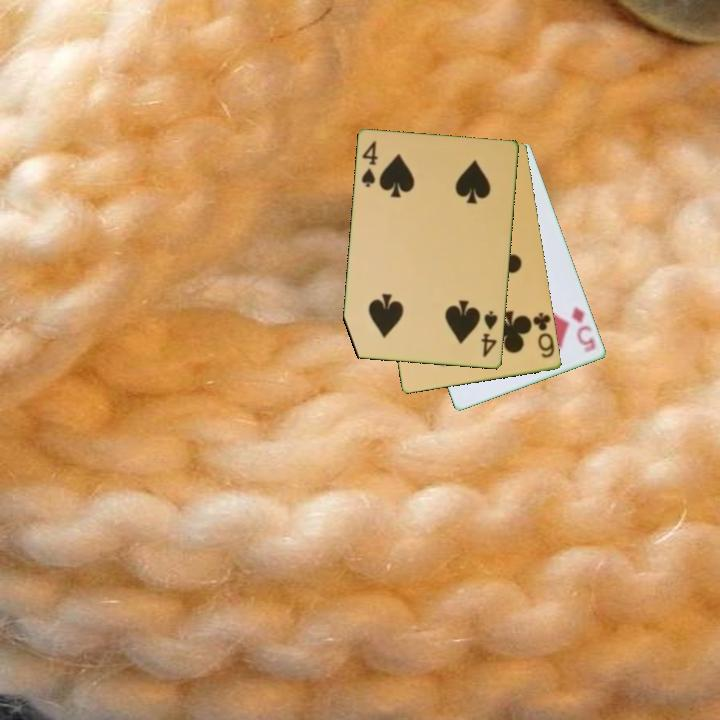4s: (478, 307, 501, 360), (359, 137, 381, 190)
5d: (569, 303, 599, 356)
6c: (530, 309, 558, 361)
